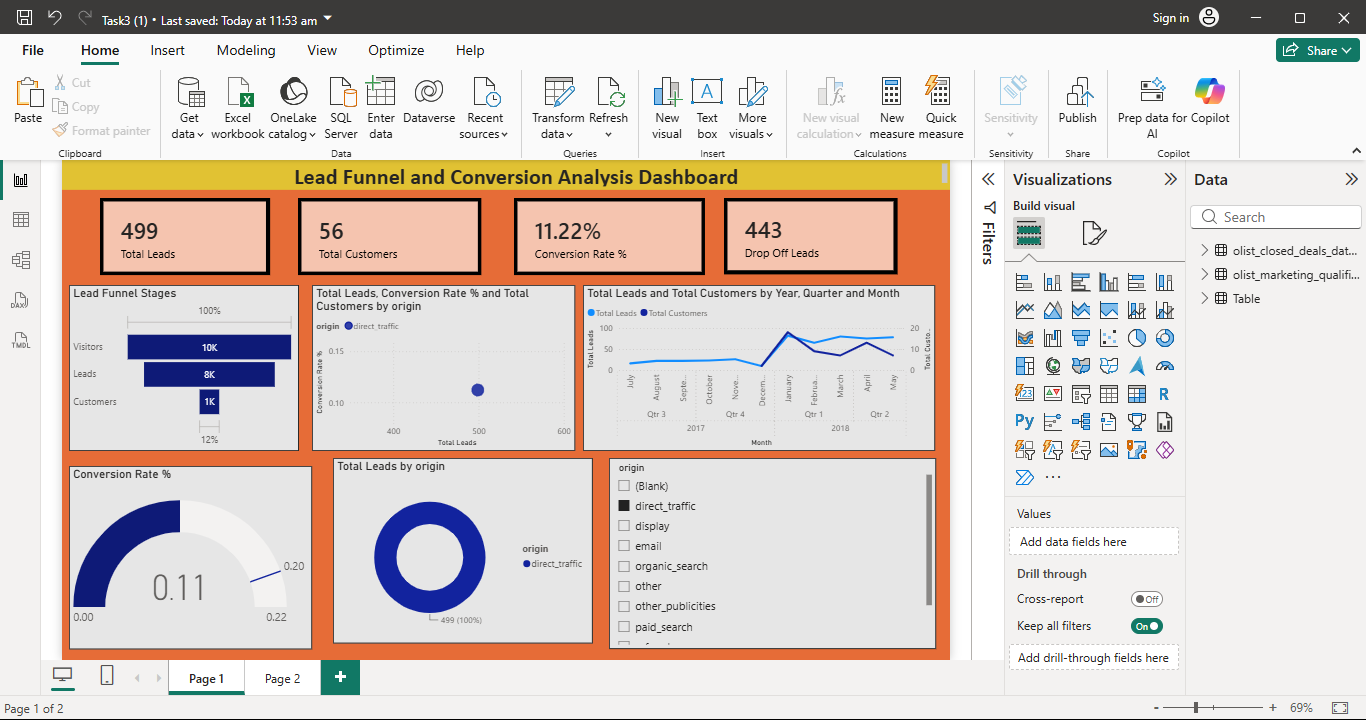

This screenshot's page, from the dashboard's own definition file:
{"tool":"powerbi","page":{"name":"Page 1","canvas":[1280,720],"ordinal":0},"visuals":[{"type":"textbox","box":[0,0,1280.4,42.9],"z":0},{"type":"cardVisual","fields":{"Data":["olist_marketing_qualified_leads.Total Leads"]},"box":[54.1,54.1,245,111.3],"z":1000},{"type":"cardVisual","fields":{"Data":["olist_marketing_qualified_leads.Total Customers"]},"box":[340.4,54.1,264,111.3],"z":2000},{"type":"cardVisual","fields":{"Data":["olist_marketing_qualified_leads.Conversion Rate %"]},"box":[650.6,54.1,275.2,111.3],"z":3000},{"type":"cardVisual","fields":{"Data":["olist_marketing_qualified_leads.Drop Off Leads"]},"box":[952.8,54.1,249.7,109.8],"z":4000},{"type":"funnel","title":"Lead Funnel Stages","fields":{"Category":["Table.Column1"],"Y":["Sum(Table.Column2)"]},"box":[9.5,179.7,330.8,238.6],"z":5000},{"type":"donutChart","fields":{"Y":["olist_marketing_qualified_leads.Total Leads"],"Category":["olist_marketing_qualified_leads.origin"]},"box":[389.7,429.5,373.8,267.2],"z":6000},{"type":"lineChart","fields":{"Category":["olist_marketing_qualified_leads.first_contact_date.Variation.Date Hierarchy.Year","olist_marketing_qualified_leads.first_contact_date.Variation.Date Hierarchy.Quarter","olist_marketing_qualified_leads.first_contact_date.Variation.Date Hierarchy.Month","olist_marketing_qualified_leads.first_contact_date.Variation.Date Hierarchy.Day"],"Y":["olist_marketing_qualified_leads.Total Leads"],"Y2":["olist_marketing_qualified_leads.Total Customers"]},"box":[750.8,179.7,507.4,238.6],"z":7000},{"type":"gauge","fields":{"Y":["olist_marketing_qualified_leads.Conversion Rate %"]},"box":[9.5,440.6,349.9,264],"z":8000},{"type":"slicer","fields":{"Values":["olist_marketing_qualified_leads.origin"]},"box":[787.7,429.1,470.9,275],"z":10000},{"type":"scatterChart","fields":{"X":["olist_marketing_qualified_leads.Total Leads"],"Y":["olist_marketing_qualified_leads.Conversion Rate %"],"Series":["olist_marketing_qualified_leads.origin"],"Size":["olist_marketing_qualified_leads.Total Customers"]},"box":[359.5,179.7,378.6,238.6],"z":11000}]}

Visuals, with their boxes on the page's 1280x720 design canvas (x1, y1, x2, y2). These are canvas units, not pixel positions in the 1366x720 screenshot, which may show the page scaled, cropped or inside an application window:
textbox: 0 0 1280 43
cardVisual - olist_marketing_qualified_leads.Total Leads: 54 54 299 165
cardVisual - olist_marketing_qualified_leads.Total Customers: 340 54 604 165
cardVisual - olist_marketing_qualified_leads.Conversion Rate %: 651 54 926 165
cardVisual - olist_marketing_qualified_leads.Drop Off Leads: 953 54 1202 164
"Lead Funnel Stages" funnel: 10 180 340 418
donutChart - olist_marketing_qualified_leads.Total Leads x olist_marketing_qualified_leads.origin: 390 430 764 697
lineChart - olist_marketing_qualified_leads.first_contact_date.Variation.Date Hierarchy.Year x olist_marketing_qualified_leads.first_contact_date.Variation.Date Hierarchy.Quarter: 751 180 1258 418
gauge - olist_marketing_qualified_leads.Conversion Rate %: 10 441 359 705
slicer - olist_marketing_qualified_leads.origin: 788 429 1259 704
scatterChart - olist_marketing_qualified_leads.Total Leads x olist_marketing_qualified_leads.Conversion Rate %: 360 180 738 418
